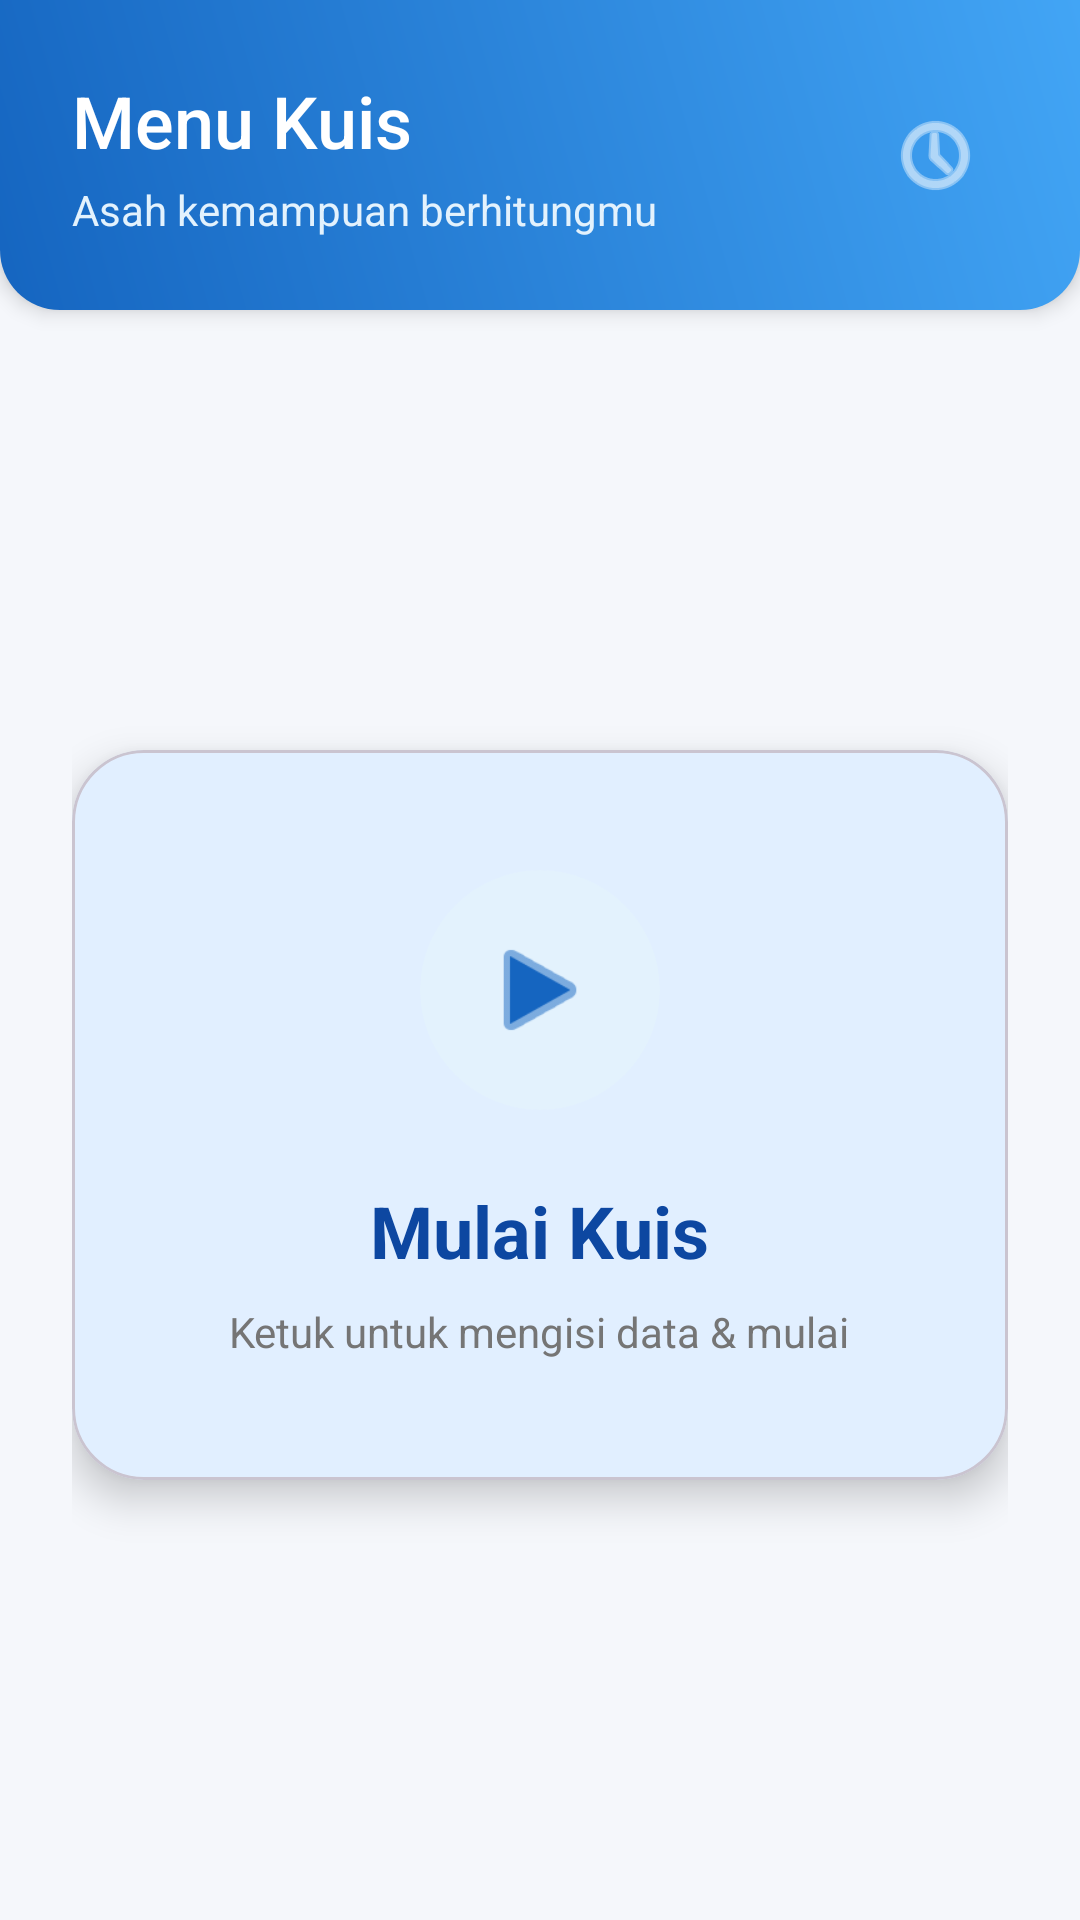

Icons on this 1080px x 1920px Android screen, each with its box as (x1, y1, x2, y2):
play: (503, 950, 577, 1030)
recent history: (901, 121, 970, 190)
